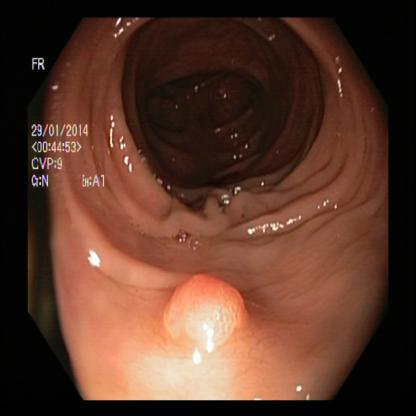Labels: (29, 44, 108, 204)
Polyps: (157, 270, 249, 361)
